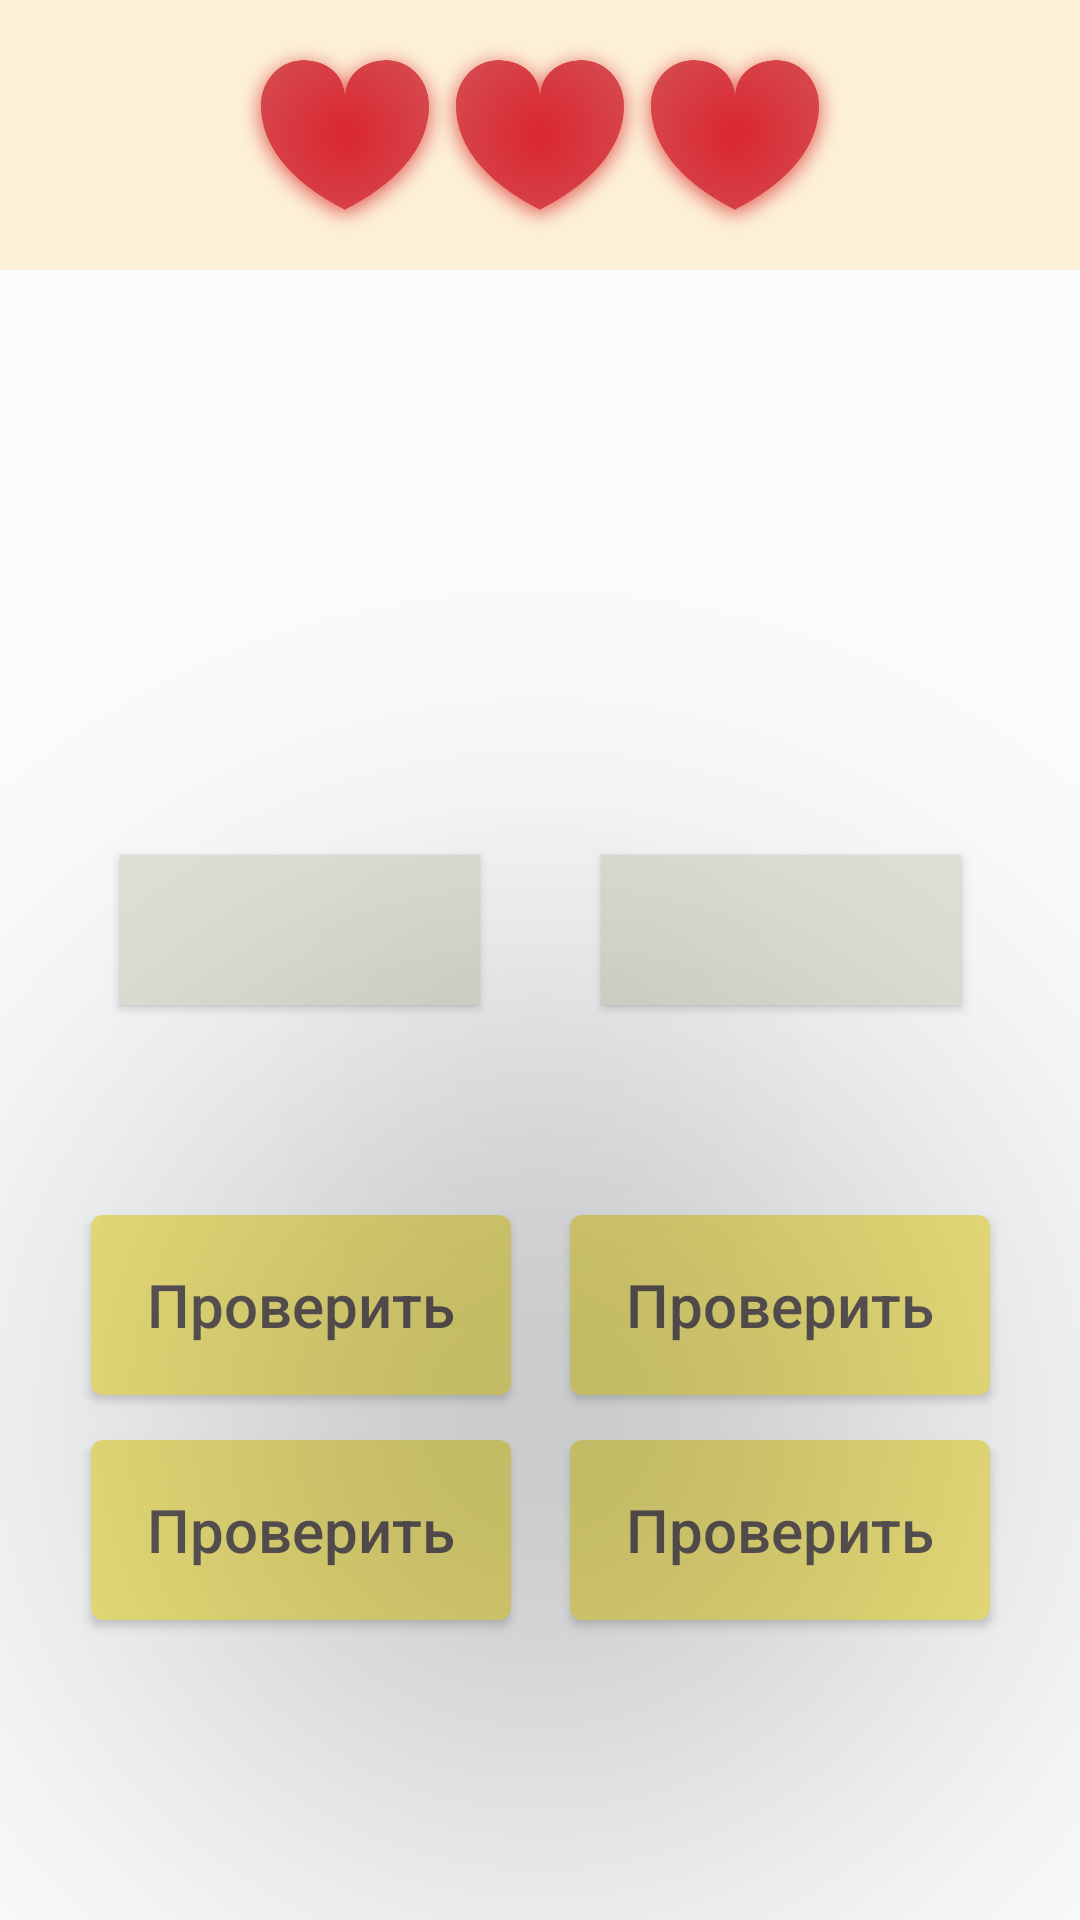

Named icons in this screenshot (1080px x 1920px) and their bounding boxes, bbox=(x1, y1, x2, y2):
heart up: bbox=(251, 55, 442, 221), bbox=(442, 55, 637, 221), bbox=(637, 55, 829, 221)
